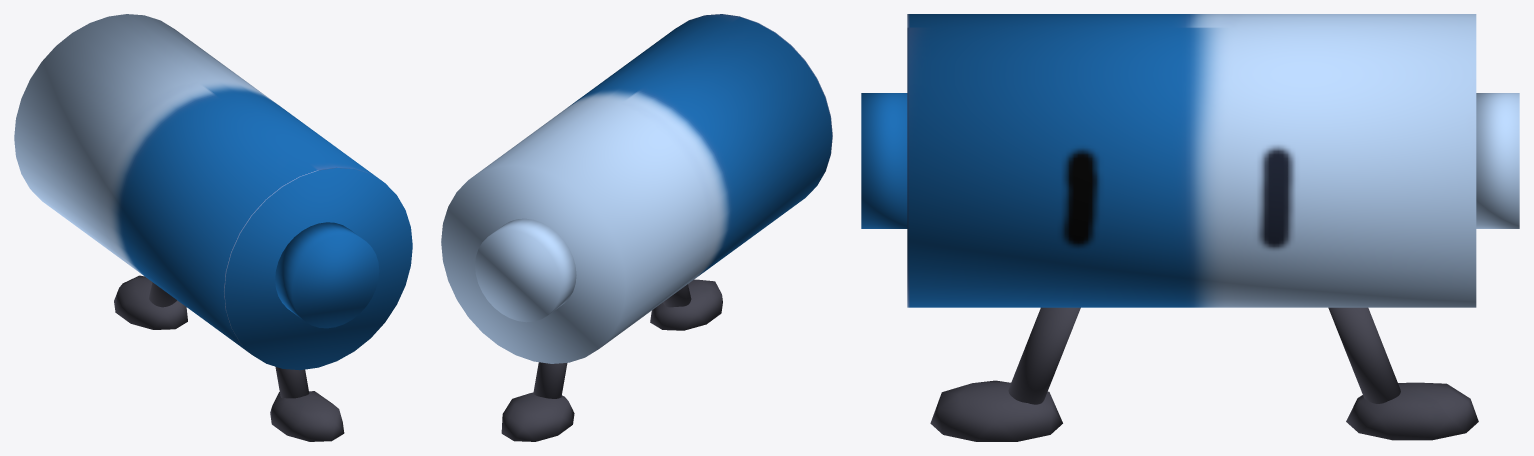
Rendered from Eni.fbx.
3 renders of one model, left to right at view 1: azimuth 30°, elevation 25°; view 2: azimuth 150°, elevation 25°; view 3: azimuth 270°, elevation 25°, orthographic. The views are drawn at different scales.
Parts seen in each view (by area): view 1: Cylinder; view 2: Cylinder; view 3: Cylinder.
Boxes of the visible parts, x1=… form: Cylinder: x1=14, y1=14, x2=412, y2=441; Cylinder: x1=441, y1=14, x2=832, y2=441; Cylinder: x1=861, y1=14, x2=1519, y2=441.
Bounding box in the file's own units: 200 × 286 × 448.
